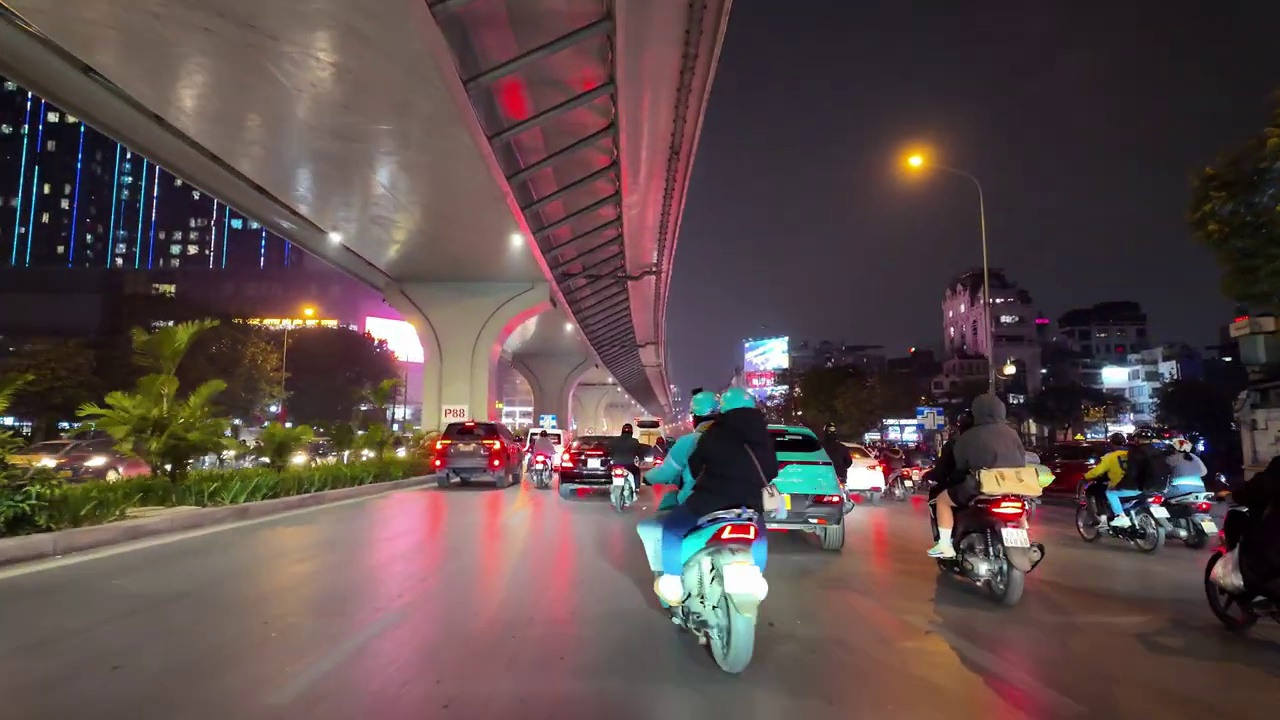acesa: (896, 144, 934, 180), (176, 76, 201, 110)
